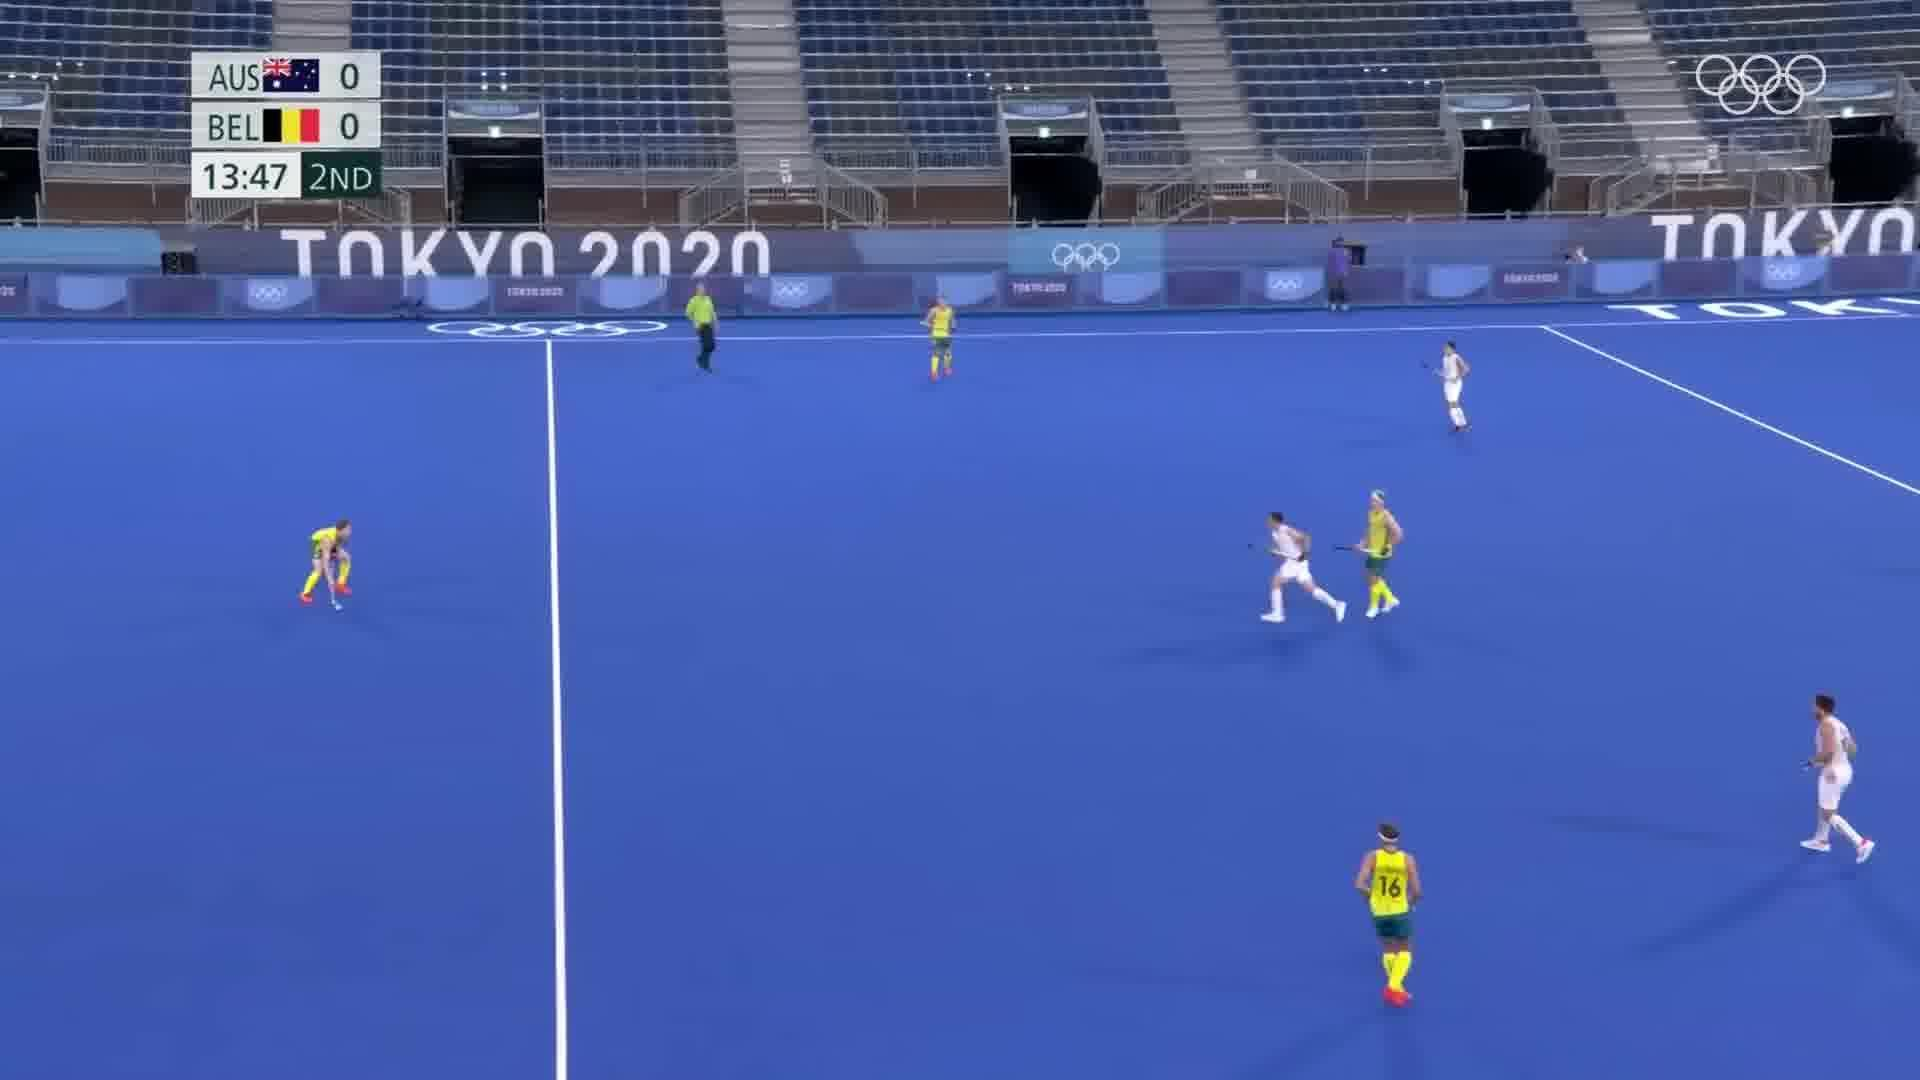ball: (327, 599, 348, 613)
